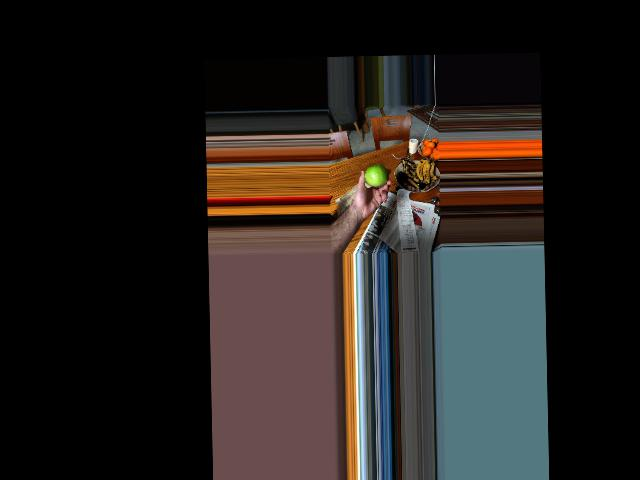apple: (365, 163, 388, 187)
